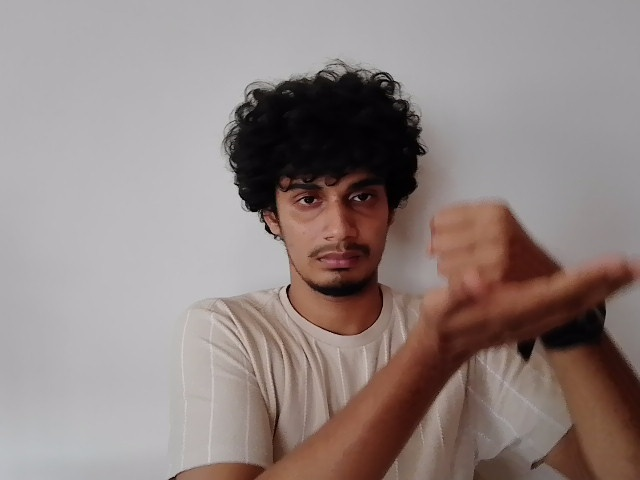help: (422, 196, 640, 352)
